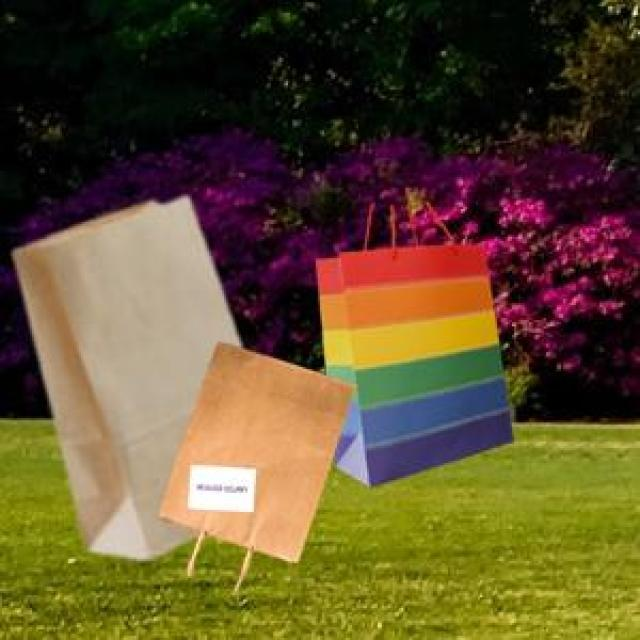paper: (9, 194, 237, 555), (312, 218, 510, 482), (156, 339, 352, 582)
